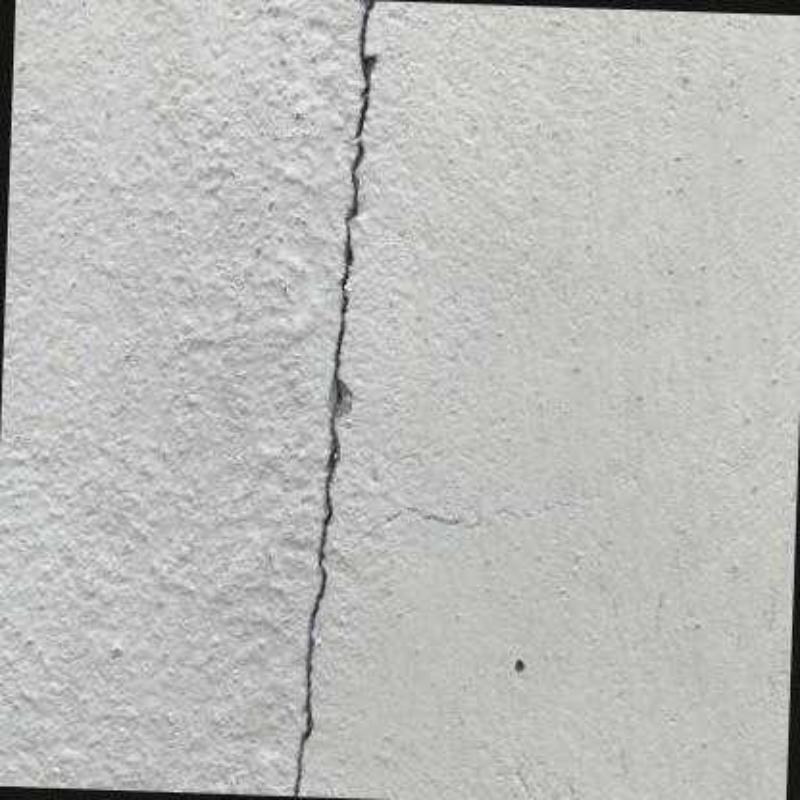pothole: (294, 0, 375, 797)
